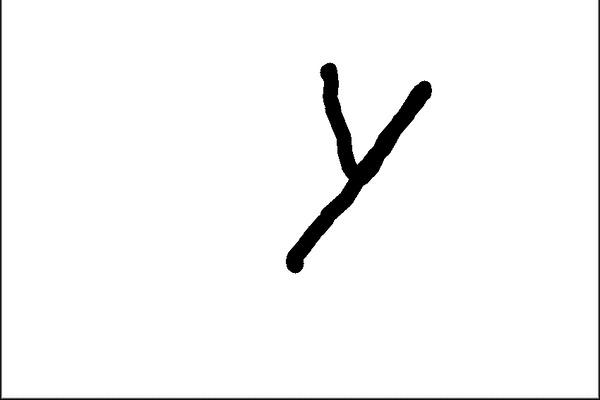Y: (275, 54, 455, 280)
